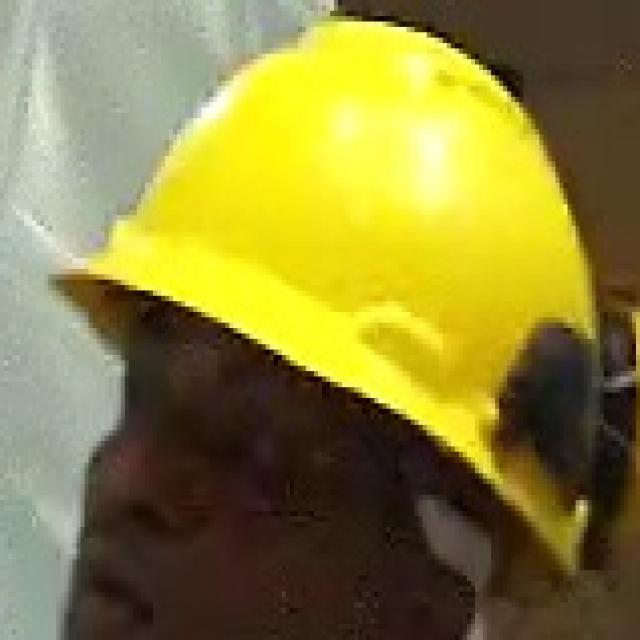yellow helmet: (62, 11, 604, 581)
